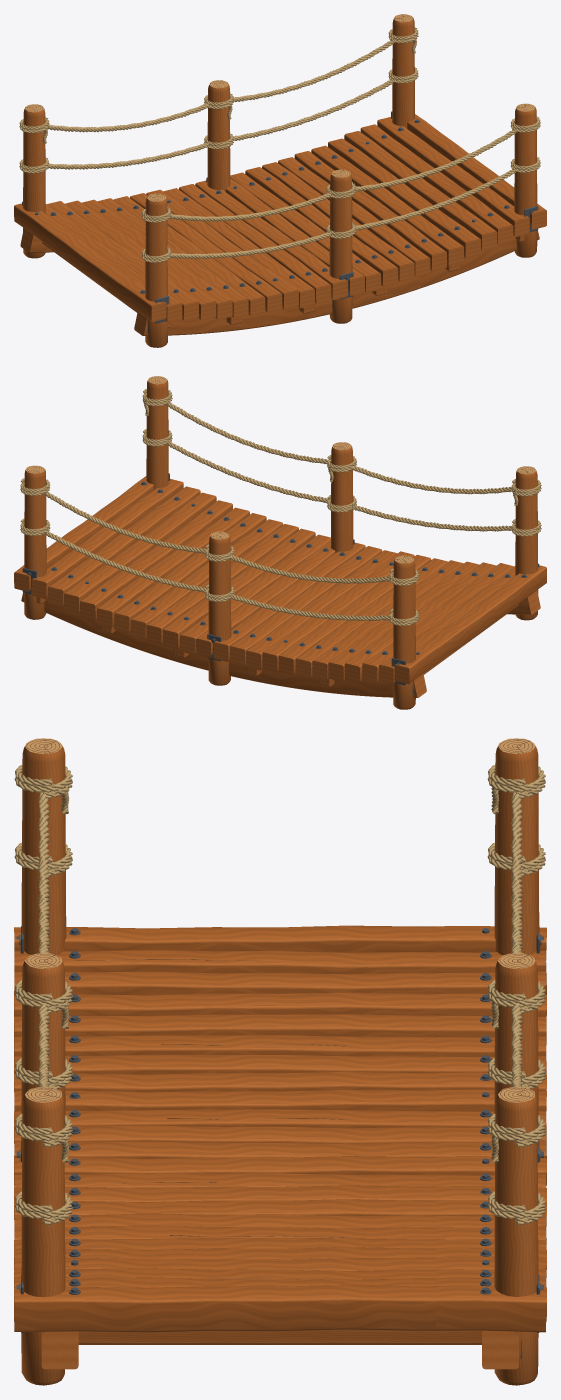
Rendered from bridge-v1.glb.
The picture shows the model from 3 angles, top to bottom: view 1: azimuth 30°, elevation 25°; view 2: azimuth 150°, elevation 25°; view 3: azimuth 270°, elevation 25°; orthographic projection. The views are drawn at different scales.
Parts seen in each view (by area): view 1: Structure__curved_left_bearer, Deck__plank_01, Deck__plank_21, Deck__plank_20, Deck__plank_23, Deck__plank_22, Post__left_01_handcarved, Post__left_00_handcarved, Post__left_02_handcarved, Deck__plank_19, Deck__plank_11, Deck__plank_18 (+20 smaller); view 2: Structure__curved_right_bearer, Deck__plank_01, Deck__plank_21, Deck__plank_20, Deck__plank_23, Deck__plank_22, Post__right_00_handcarved, Post__right_01_handcarved, Deck__plank_19, Post__right_02_handcarved, Deck__plank_11, Deck__plank_24 (+20 smaller); view 3: Deck__plank_24, Deck__plank_01, Deck__plank_02, Deck__plank_04, Deck__plank_05, Deck__plank_03, Post__left_02_handcarved, Post__right_02_handcarved, Deck__plank_09, Deck__plank_06, Deck__plank_08, Deck__plank_13 (+21 smaller).
Part boxes in pixels (bbox=[...]): Structure__curved_left_bearer: bbox=[134, 230, 539, 335]; Deck__plank_01: bbox=[14, 203, 166, 321]; Deck__plank_21: bbox=[344, 131, 497, 250]; Deck__plank_20: bbox=[328, 138, 480, 258]; Deck__plank_23: bbox=[377, 117, 529, 236]; Deck__plank_22: bbox=[360, 124, 513, 244]; Post__left_01_handcarved: bbox=[329, 169, 352, 323]; Post__left_00_handcarved: bbox=[145, 193, 167, 347]; Post__left_02_handcarved: bbox=[514, 103, 537, 257]; Deck__plank_19: bbox=[311, 145, 463, 265]; Deck__plank_11: bbox=[179, 184, 331, 304]; Deck__plank_18: bbox=[294, 151, 446, 271]; Structure__curved_right_bearer: bbox=[21, 592, 426, 697]; Deck__plank_01: bbox=[394, 565, 546, 684]; Deck__plank_21: bbox=[64, 492, 216, 612]; Deck__plank_20: bbox=[80, 500, 232, 620]; Deck__plank_23: bbox=[31, 479, 183, 598]; Deck__plank_22: bbox=[48, 486, 200, 606]; Post__right_00_handcarved: bbox=[393, 555, 415, 709]; Post__right_01_handcarved: bbox=[208, 531, 231, 685]; Deck__plank_19: bbox=[97, 507, 249, 627]; Post__right_02_handcarved: bbox=[24, 465, 46, 619]; Deck__plank_11: bbox=[229, 546, 382, 665]; Deck__plank_24: bbox=[14, 476, 153, 591]; Deck__plank_24: bbox=[14, 1285, 546, 1332]; Deck__plank_01: bbox=[14, 925, 546, 960]; Deck__plank_02: bbox=[14, 950, 546, 994]; Deck__plank_04: bbox=[14, 992, 546, 1016]; Deck__plank_05: bbox=[14, 1014, 546, 1044]; Deck__plank_03: bbox=[14, 971, 546, 1015]; Post__left_02_handcarved: bbox=[21, 1086, 65, 1385]; Post__right_02_handcarved: bbox=[494, 1086, 538, 1385]; Deck__plank_09: bbox=[14, 1089, 546, 1111]; Deck__plank_06: bbox=[14, 1035, 546, 1074]; Deck__plank_08: bbox=[14, 1071, 546, 1092]; Deck__plank_13: bbox=[14, 1156, 546, 1182].
Size of the model in its own units: 6 by 2.42 by 3.61.
6 materials, 2 textured.
